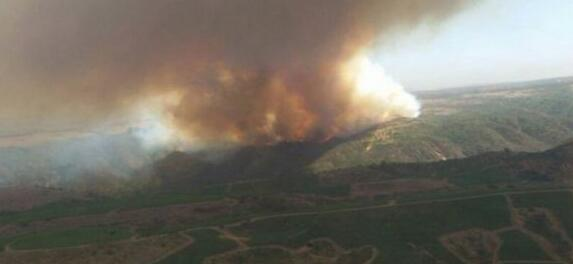yanwu: (1, 0, 426, 140)
